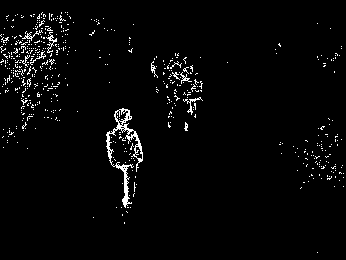person: (105, 107, 145, 220)
